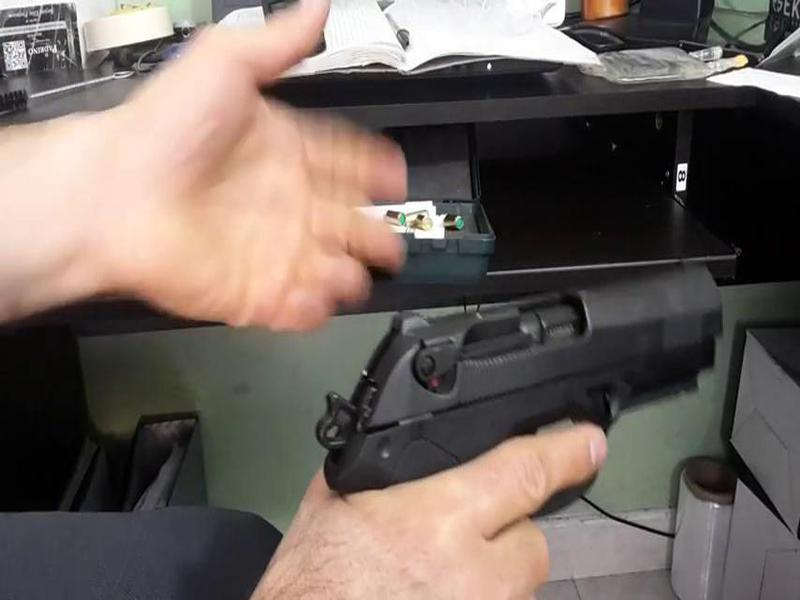Pistola: (312, 258, 745, 510)
